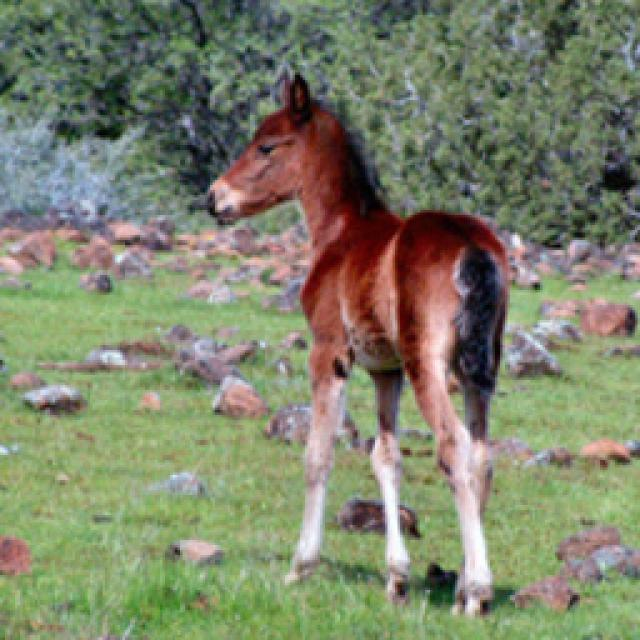Horse: (211, 70, 514, 589)
